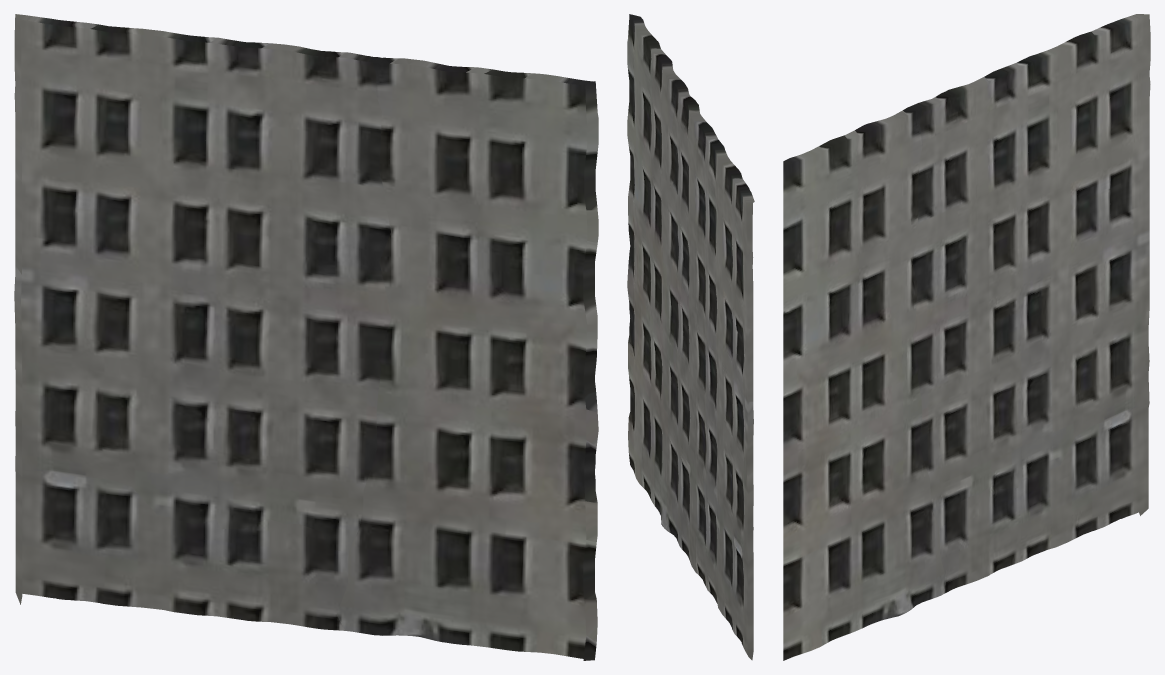
File: z20-167781-405230-h1-yup-uvflip-v3-world.glb
3 renders of one model, left to right at view 1: azimuth 30°, elevation 25°; view 2: azimuth 150°, elevation 25°; view 3: azimuth 270°, elevation 25°, orthographic. The views are drawn at different scales.
Bounding box in the file's own units: 15.56 × 23.6 × 15.64.
Materials: 1 (1 with a texture image).
